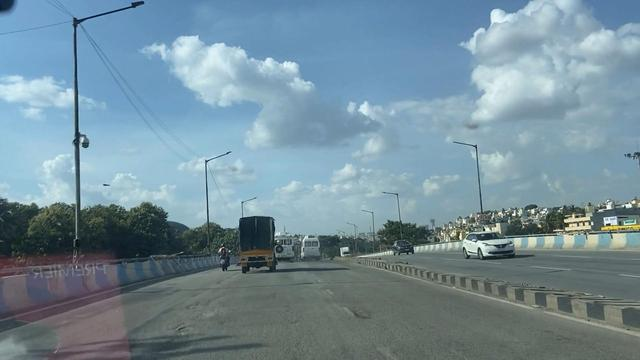HMV: (227, 217, 280, 270)
LMV: (221, 241, 231, 275)
RoadDamages: (275, 306, 391, 360), (150, 303, 237, 349)
